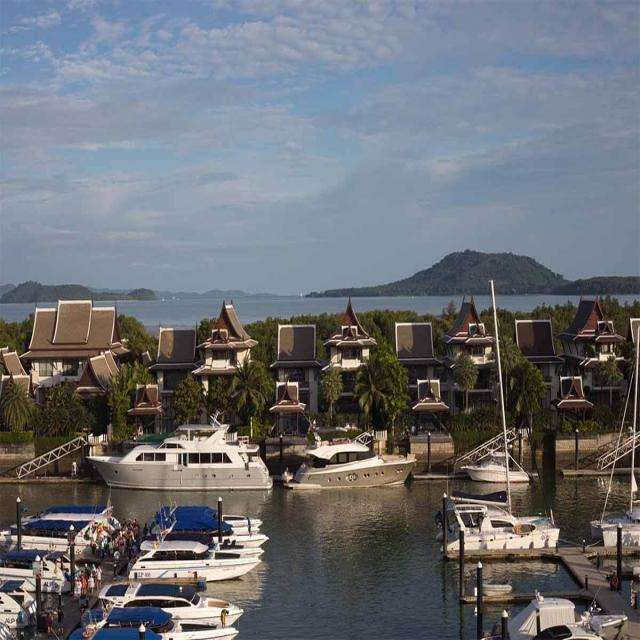houseboat: (71, 422, 272, 501), (284, 419, 414, 489), (468, 444, 529, 486)
